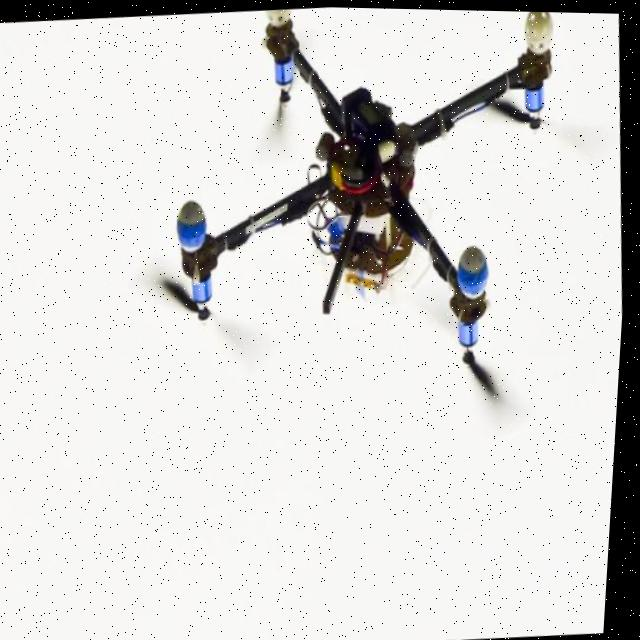drones: (108, 2, 640, 492)
